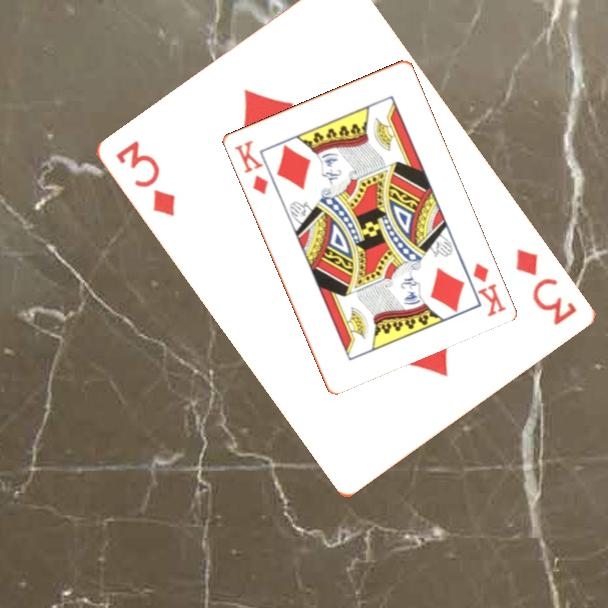d03: (511, 245, 580, 328), (111, 136, 178, 220)
d13: (231, 136, 271, 197), (469, 259, 509, 319)
